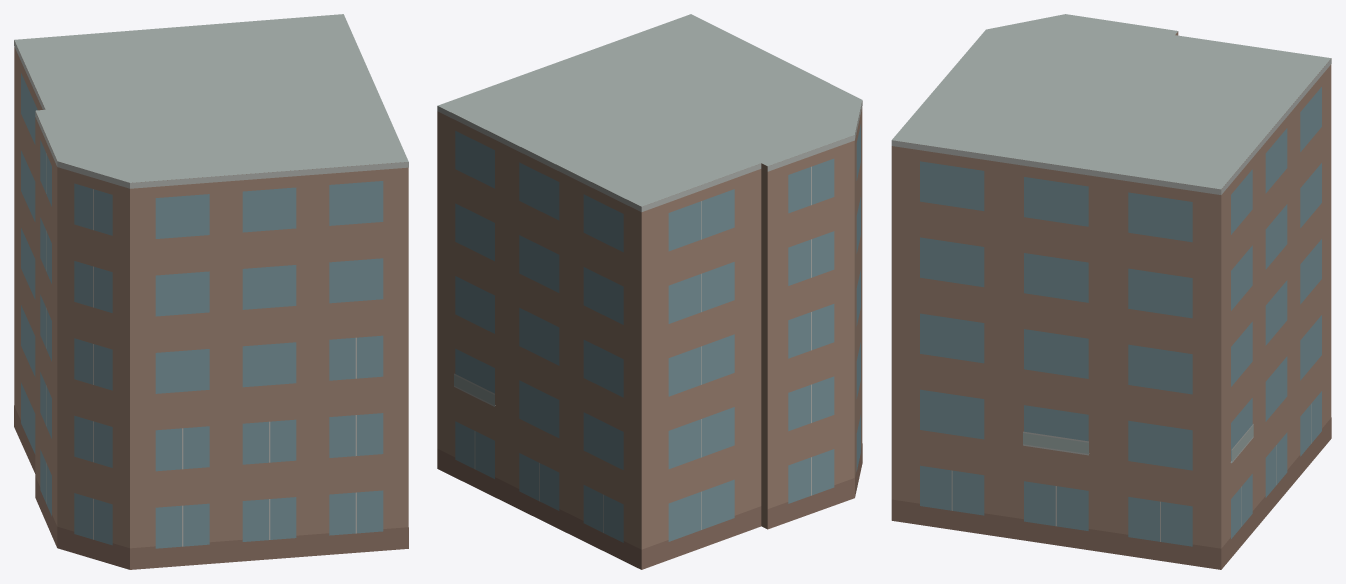
File: survey-upis-32947202.glb
3 views of the same model, side by side, from view 1: azimuth 30°, elevation 25°; view 2: azimuth 150°, elevation 25°; view 3: azimuth 270°, elevation 25° (orthographic). The views are drawn at different scales.
Visible parts, largest first — view 1: survey-upis-32947202.tmp; view 2: survey-upis-32947202.tmp; view 3: survey-upis-32947202.tmp.
Part boxes in pixels (left/top/right/bottom): survey-upis-32947202.tmp: left=14, top=14, right=408, bottom=569; survey-upis-32947202.tmp: left=437, top=14, right=862, bottom=569; survey-upis-32947202.tmp: left=891, top=14, right=1331, bottom=569.
Bounding box in the file's own units: 15.93 × 16.1 × 16.88.
